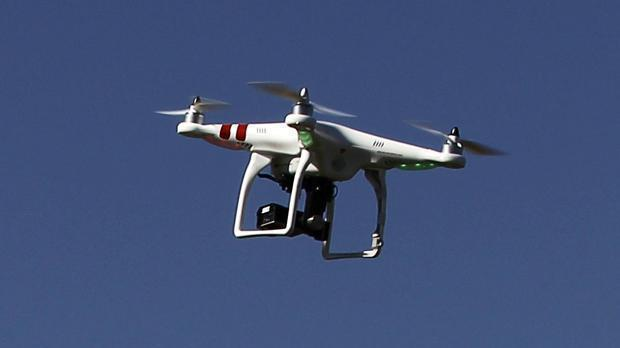UAV: (174, 86, 473, 264)
